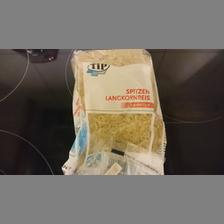Reis: (59, 46, 167, 174)
